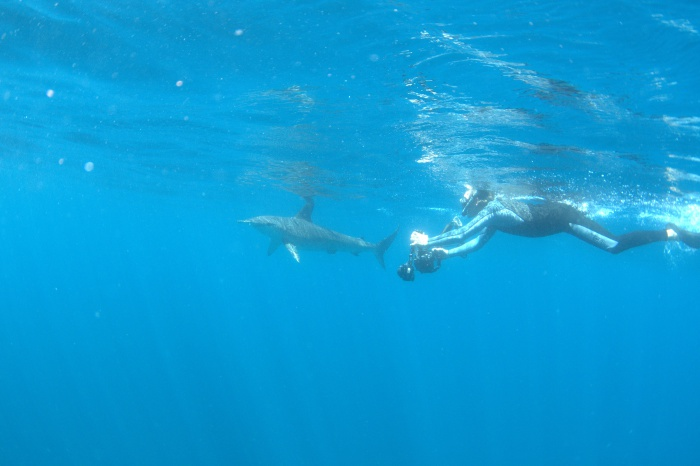Hammer: (326, 204, 635, 442), (230, 183, 414, 299)
